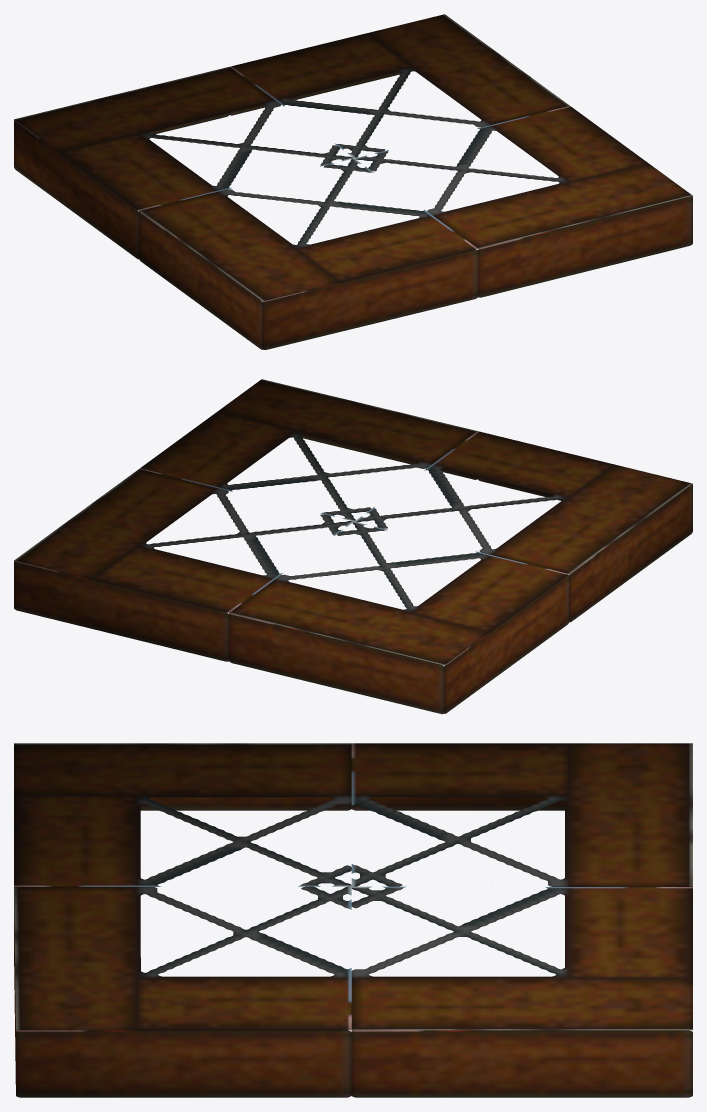
3 views of the same model, one above another, from view 1: azimuth 30°, elevation 25°; view 2: azimuth 150°, elevation 25°; view 3: azimuth 270°, elevation 25° (orthographic). The views are drawn at different scales.
Parts seen in each view (by area): view 1: T1L4M009_17; view 2: T1L4M009_17; view 3: T1L4M009_17.
Part boxes in pixels (left/top/right/bottom): T1L4M009_17: left=14, top=14, right=692, bottom=349; T1L4M009_17: left=14, top=379, right=692, bottom=714; T1L4M009_17: left=14, top=743, right=692, bottom=1097.
Size of the model in its own units: 2.96 by 0.3252 by 2.96.
